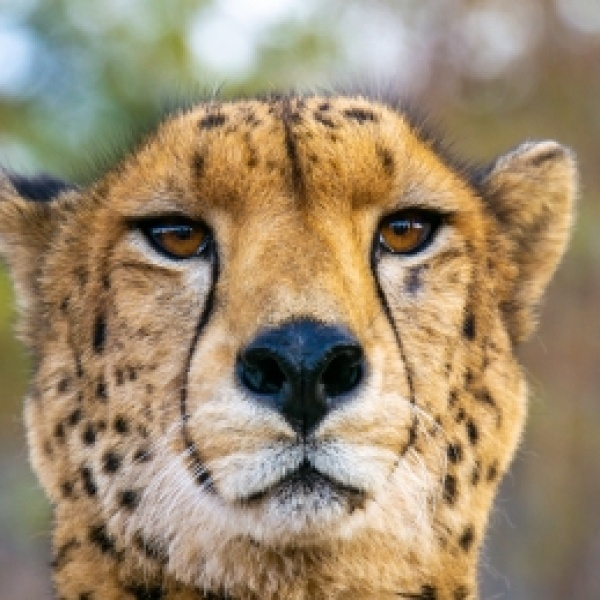Cheetah: (2, 84, 584, 600)
